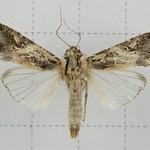Spodoptera litura: (1, 8, 150, 140)
